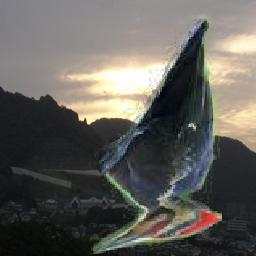Woodpecker: (90, 20, 223, 255)
